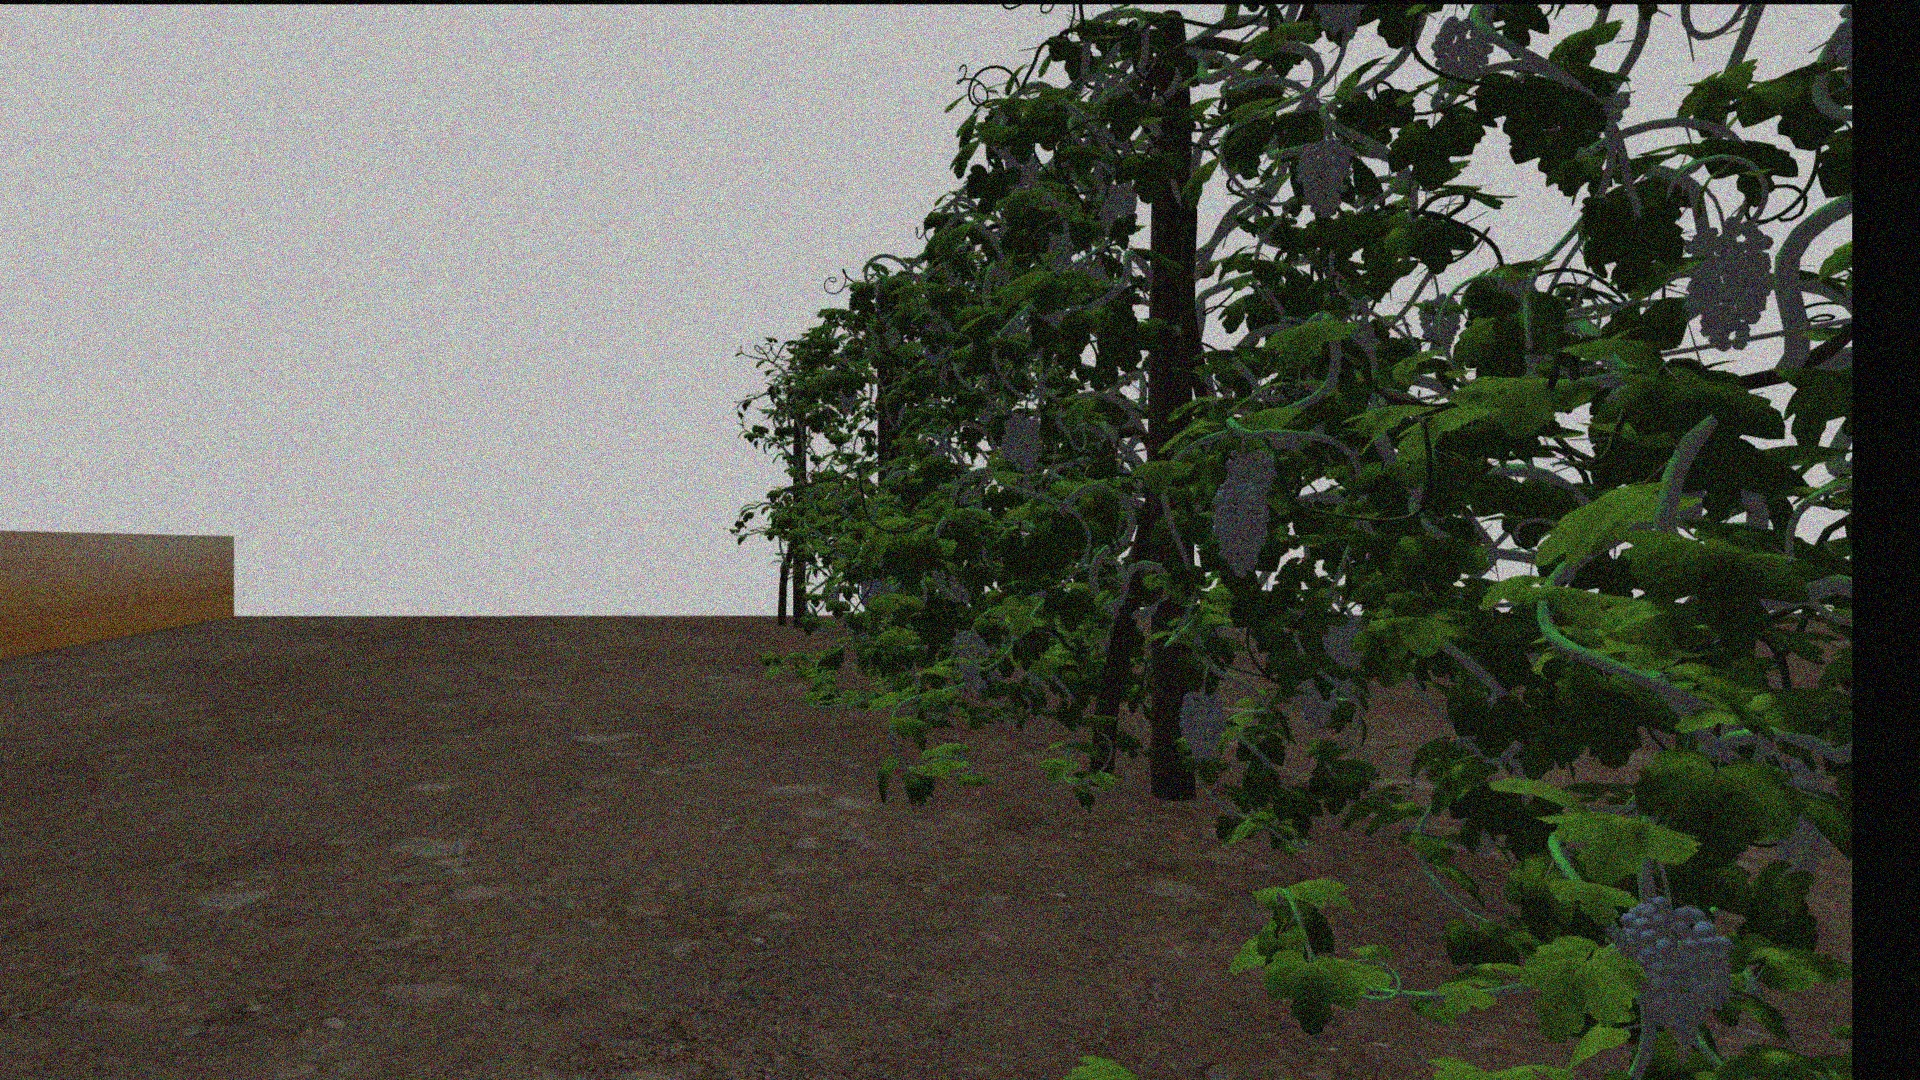grape: (1615, 894, 1737, 1047), (1683, 220, 1775, 352), (1211, 481, 1265, 579), (1295, 135, 1352, 219), (1432, 18, 1491, 95), (1176, 688, 1226, 765), (953, 629, 992, 698), (1418, 294, 1462, 352), (1323, 622, 1364, 684), (1000, 414, 1040, 469), (1225, 450, 1274, 488), (1299, 687, 1338, 727), (1098, 187, 1121, 232), (1116, 181, 1139, 219)
